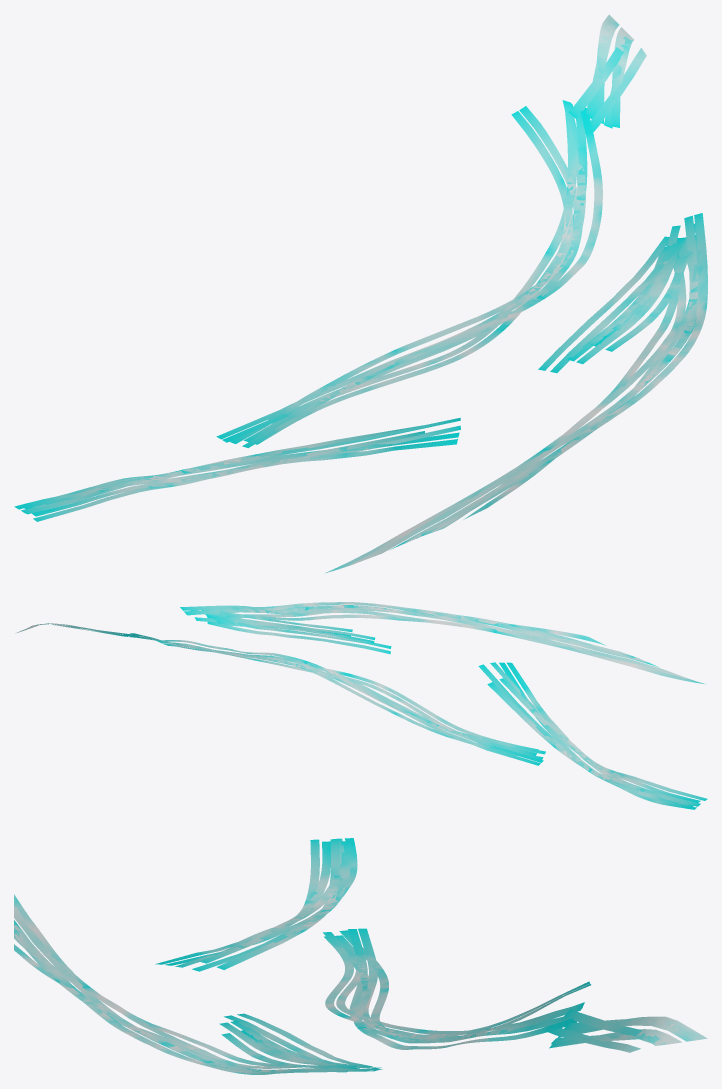
The picture shows the model from 3 angles, top to bottom: view 1: azimuth 30°, elevation 25°; view 2: azimuth 150°, elevation 25°; view 3: azimuth 270°, elevation 25°; orthographic projection. The views are drawn at different scales.
Visible parts, largest first — view 1: SpaceCenter_Long3_GenerateRoad_Sand_TireTracks_Narrow_Mesh_x; view 2: SpaceCenter_Long3_GenerateRoad_Sand_TireTracks_Narrow_Mesh_x; view 3: SpaceCenter_Long3_GenerateRoad_Sand_TireTracks_Narrow_Mesh_x.
Boxes of the visible parts, x1=… form: SpaceCenter_Long3_GenerateRoad_Sand_TireTracks_Narrow_Mesh_x: x1=14, y1=14, x2=707, y2=573; SpaceCenter_Long3_GenerateRoad_Sand_TireTracks_Narrow_Mesh_x: x1=15, y1=602, x2=707, y2=809; SpaceCenter_Long3_GenerateRoad_Sand_TireTracks_Narrow_Mesh_x: x1=14, y1=838, x2=707, y2=1074.
Size of the model in its own units: 1677 by 2217 by 524.
